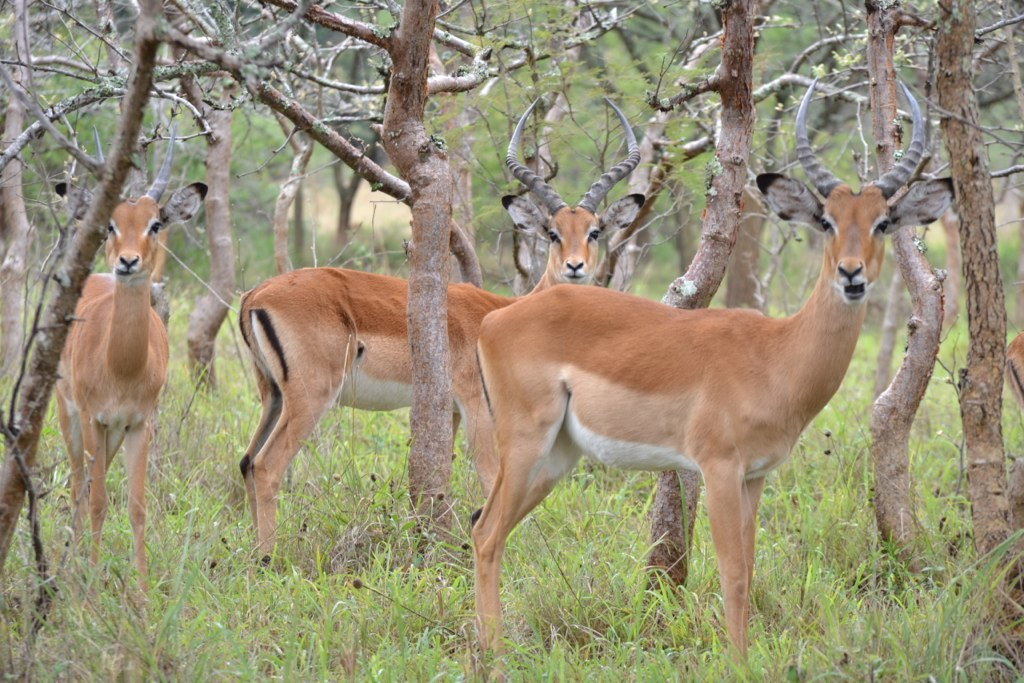Tree: (0, 0, 1022, 636)
